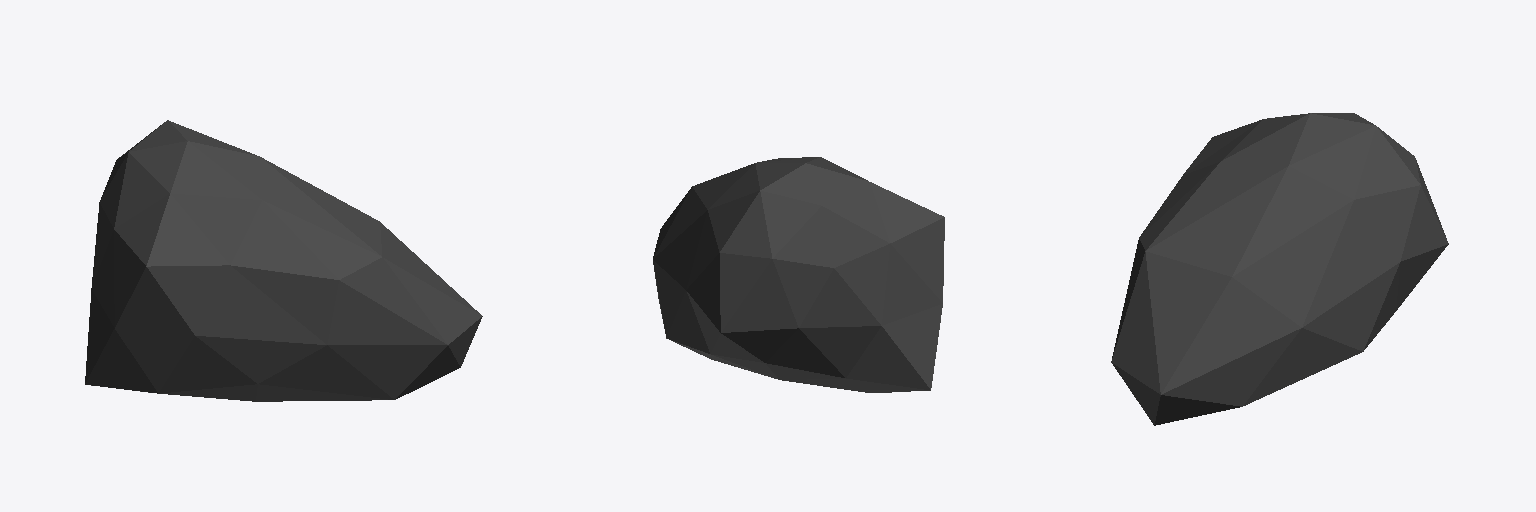
File: rock_1.obj
3 views of the same model, side by side, from view 1: azimuth 30°, elevation 25°; view 2: azimuth 150°, elevation 25°; view 3: azimuth 270°, elevation 25° (orthographic).
Parts seen in each view (by area): view 1: r6_Icosphere.003; view 2: r6_Icosphere.003; view 3: r6_Icosphere.003.
Boxes of the visible parts, x1=… form: r6_Icosphere.003: x1=85, y1=120, x2=482, y2=401; r6_Icosphere.003: x1=653, y1=157, x2=944, y2=392; r6_Icosphere.003: x1=1111, y1=113, x2=1448, y2=425.
Size of the model in its own units: 3.59 by 2.4 by 3.14.